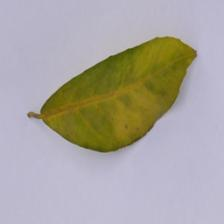greening: (18, 28, 206, 165)
